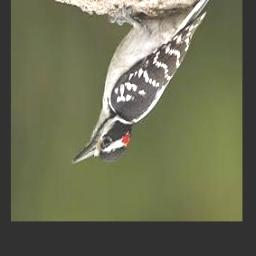Woodpecker: (72, 0, 210, 165)
